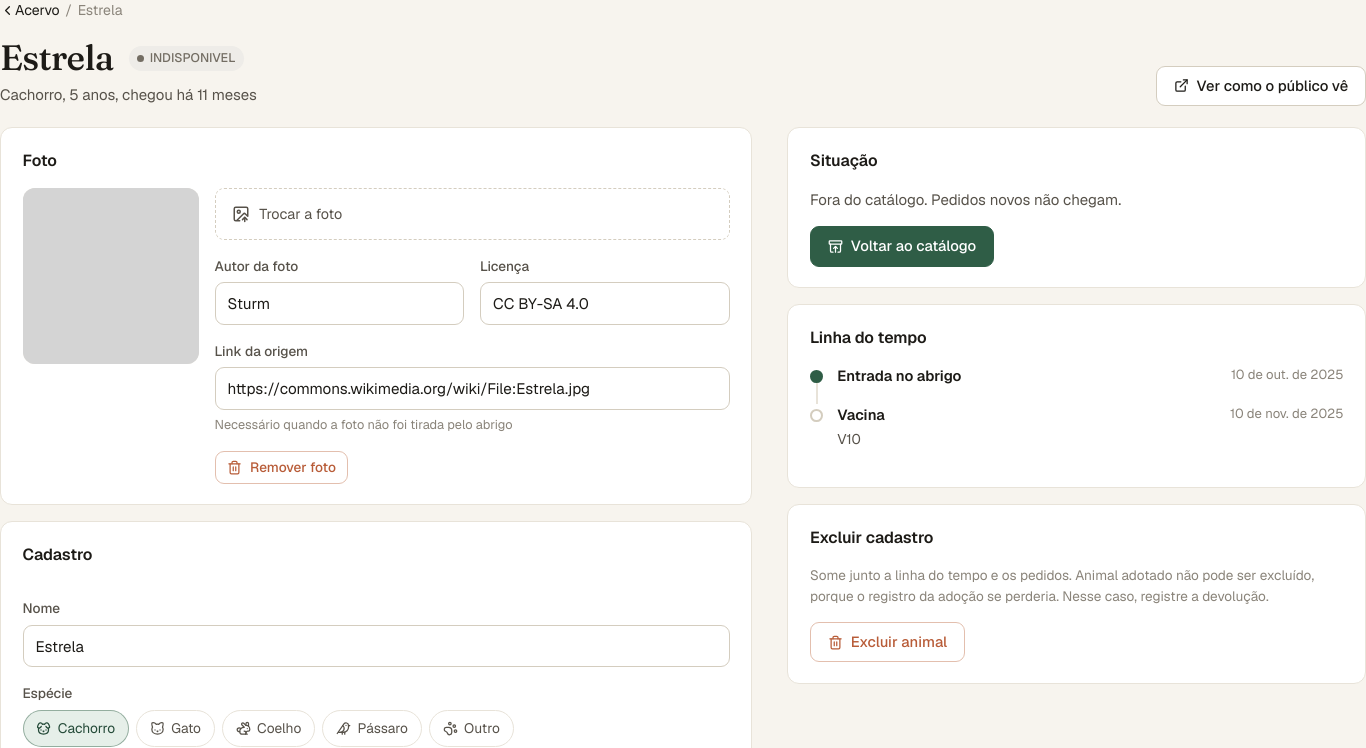
Scenario: gerenciar animal › com o animal INDISPONIVEL oferece "Voltar ao catálogo"
Click the button "Voltar ao catálogo" at {"x": 902, "y": 246}, box [810,226,994,267]
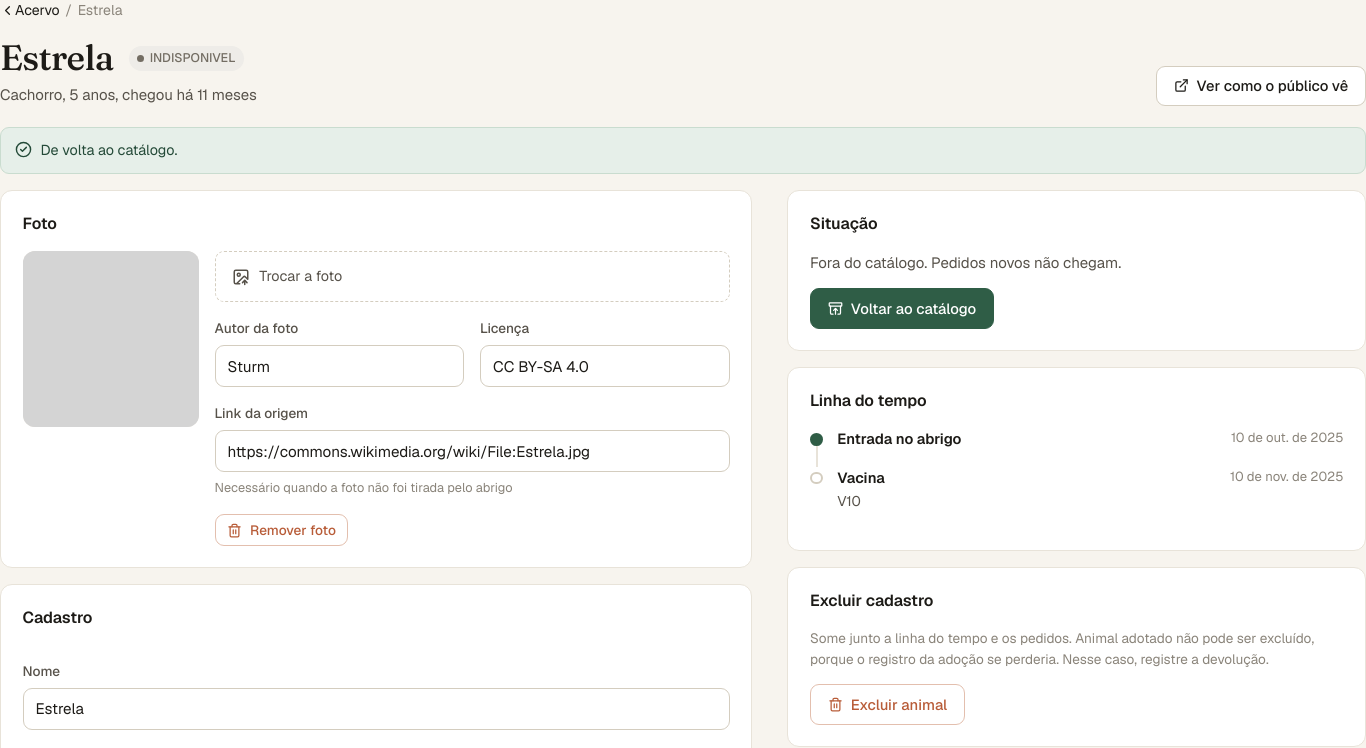
Expected: the text "De volta ao catálogo." is shown, [40,139,177,162]
